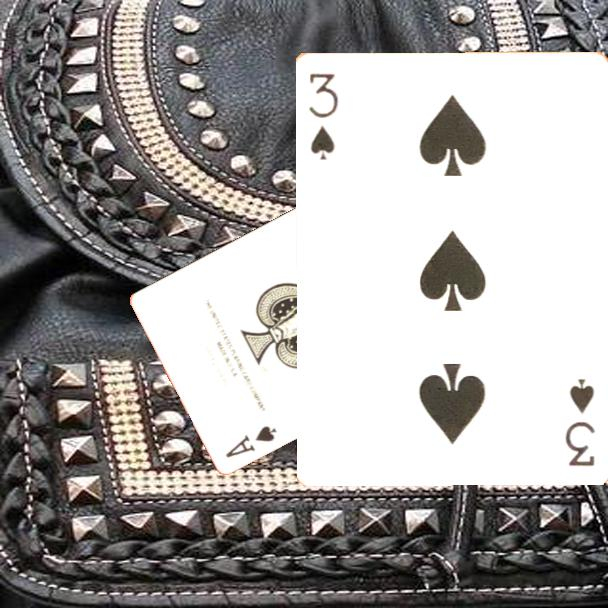s01: (222, 422, 280, 460)
s03: (562, 375, 598, 469), (305, 69, 340, 162)
